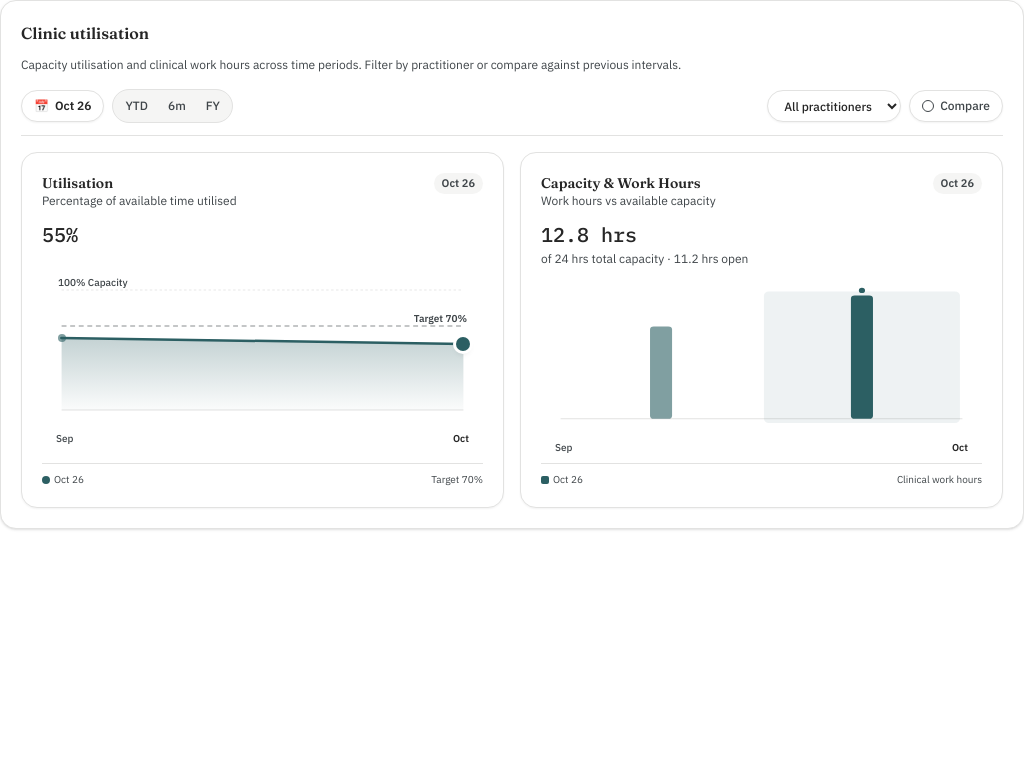
Scenario: ClinicUtilisationView (Splose-inspired redesign) › filters charts by selected practitioner from filter bar dropdown
The width and height of the screenshot is (1024, 768).
Select "Priya" in the dropdown named "Filter by practitioner" at (834, 106), box left=767, top=90, right=901, bottom=122
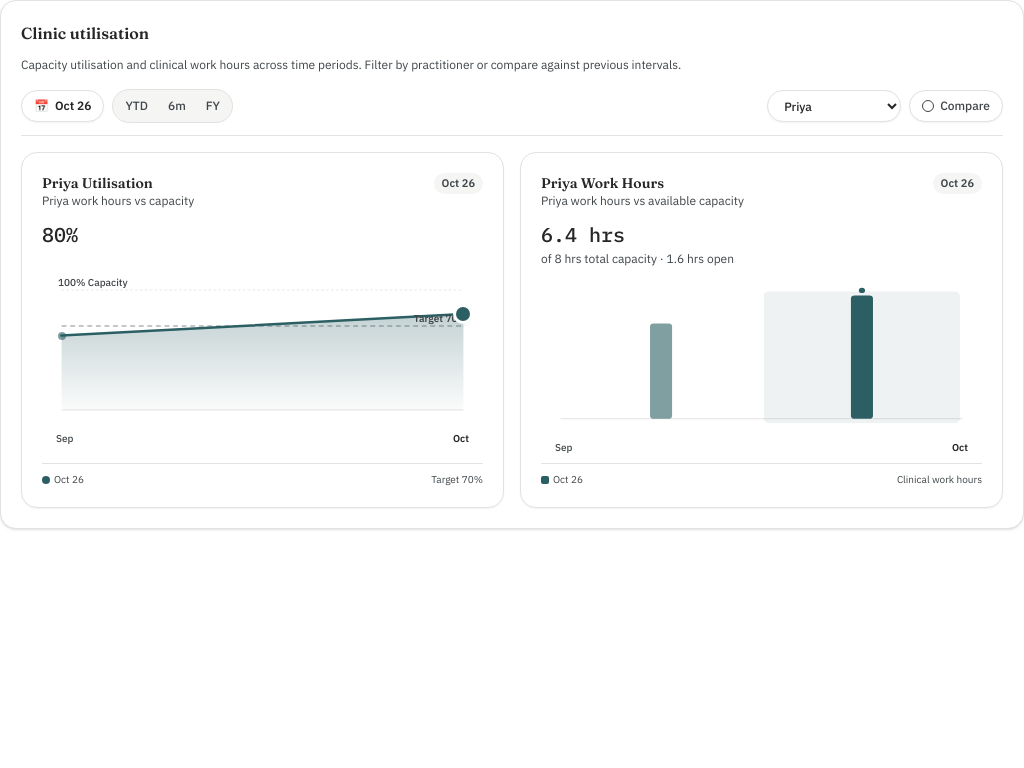
Check: the heading "Priya Utilisation" is shown, box left=42, top=174, right=153, bottom=192
Check: the heading "Priya Work Hours" is shown, box left=541, top=174, right=664, bottom=192
